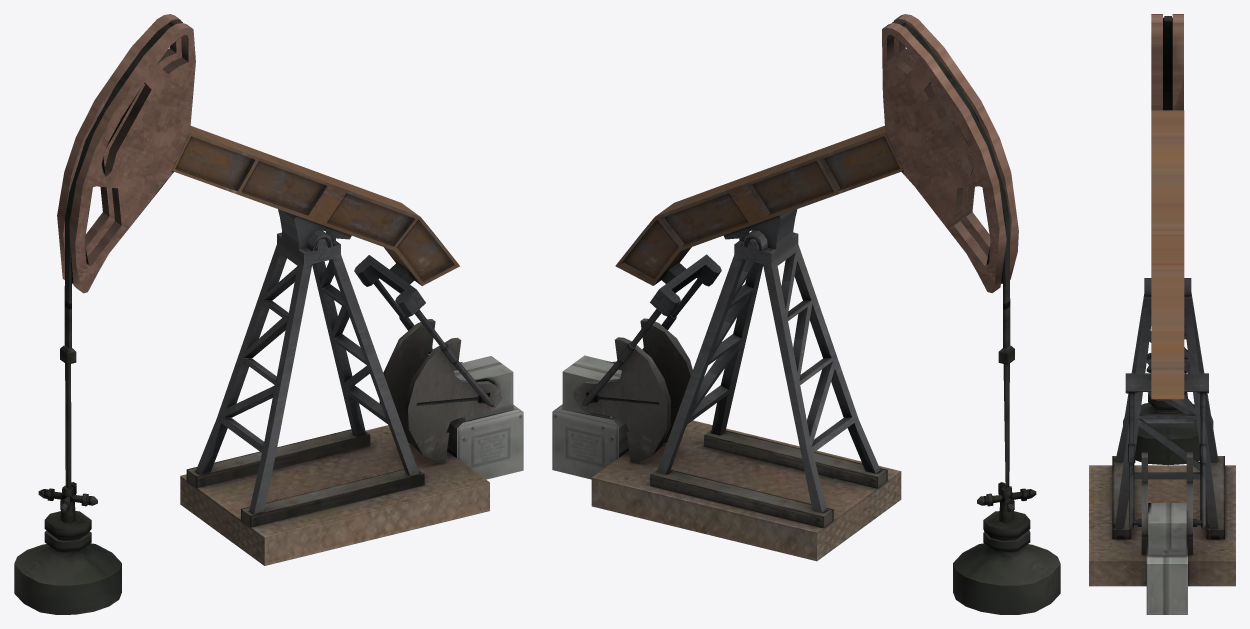
The model's file is pump-jack.glb.
3 views of the same model, side by side, from view 1: azimuth 30°, elevation 25°; view 2: azimuth 150°, elevation 25°; view 3: azimuth 270°, elevation 25° (orthographic). The views are drawn at different scales.
Parts seen in each view (by area): view 1: Oil_Pump_0; view 2: Oil_Pump_0; view 3: Oil_Pump_0.
Boxes of the visible parts, bbox=[...] form: Oil_Pump_0: bbox=[14, 14, 523, 614]; Oil_Pump_0: bbox=[552, 14, 1060, 614]; Oil_Pump_0: bbox=[1089, 14, 1235, 614].
Bounding box in the file's own units: 4.43 × 4.74 × 1.33.
Materials: 1 (1 with a texture image).
